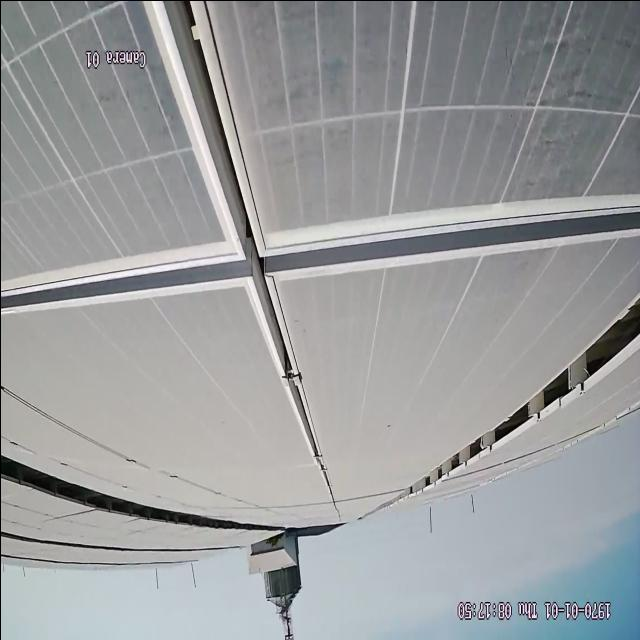interior panel: (2, 7, 638, 503)
outher panel: (383, 292, 639, 506), (1, 453, 284, 530)
